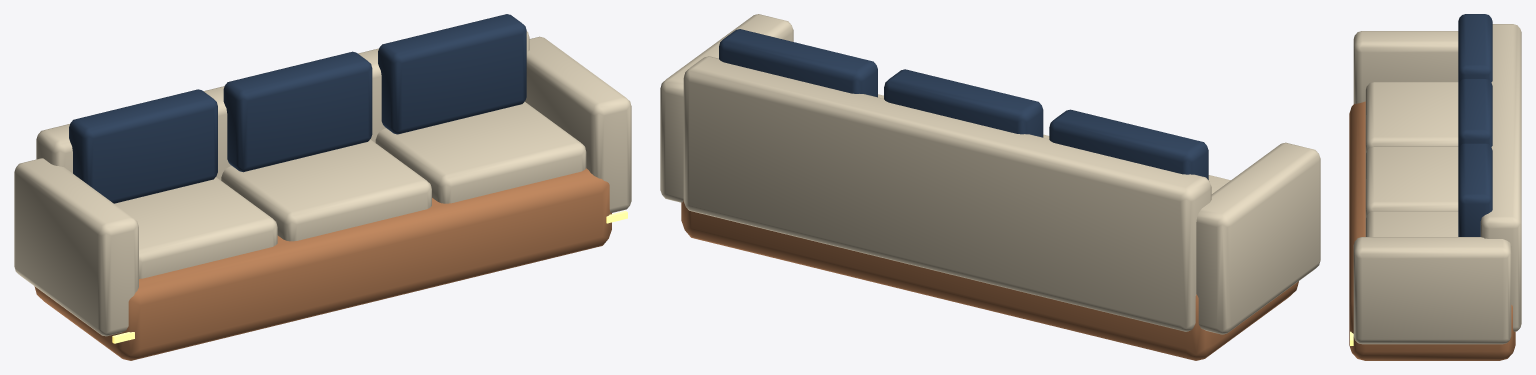
The model's file is lounge_sofa.glb.
3 renders of one model, left to right at view 1: azimuth 30°, elevation 25°; view 2: azimuth 150°, elevation 25°; view 3: azimuth 270°, elevation 25°, orthographic. The views are drawn at different scales.
Visible parts, largest first — view 1: root_cream, root_navy, root_copper; view 2: root_cream, root_navy, root_copper; view 3: root_cream, root_navy, root_copper.
Boxes of the visible parts, bbox=[...] form: root_cream: bbox=[14, 31, 631, 336]; root_navy: bbox=[69, 14, 526, 203]; root_copper: bbox=[34, 168, 611, 360]; root_cream: bbox=[660, 14, 1320, 334]; root_navy: bbox=[719, 29, 1208, 179]; root_copper: bbox=[681, 200, 1298, 360]; root_cream: bbox=[1353, 24, 1521, 344]; root_navy: bbox=[1458, 14, 1492, 236]; root_copper: bbox=[1349, 101, 1515, 360].
Bounding box in the file's own units: 3.07 × 1.02 × 1.
